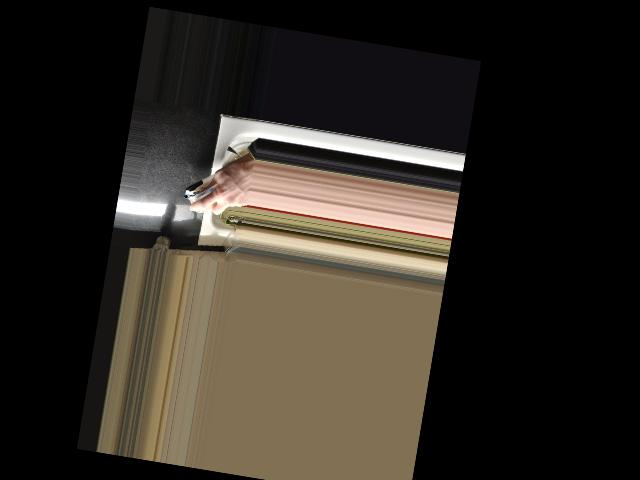cheese: (180, 160, 249, 217)
